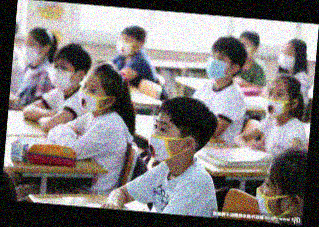with_mask: (255, 172, 283, 221), (147, 118, 174, 164), (263, 86, 288, 120), (76, 82, 101, 114), (47, 61, 72, 92), (204, 50, 229, 81), (276, 46, 297, 71), (21, 39, 40, 63), (114, 34, 133, 58)
